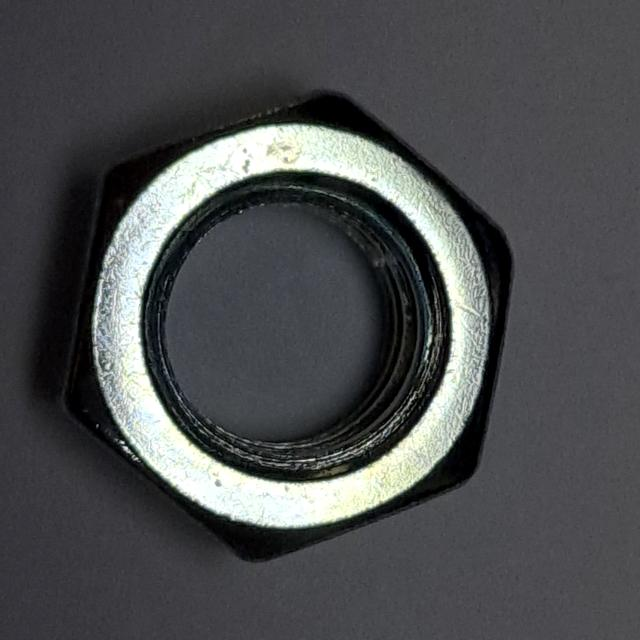Excellent: (40, 68, 528, 575)
